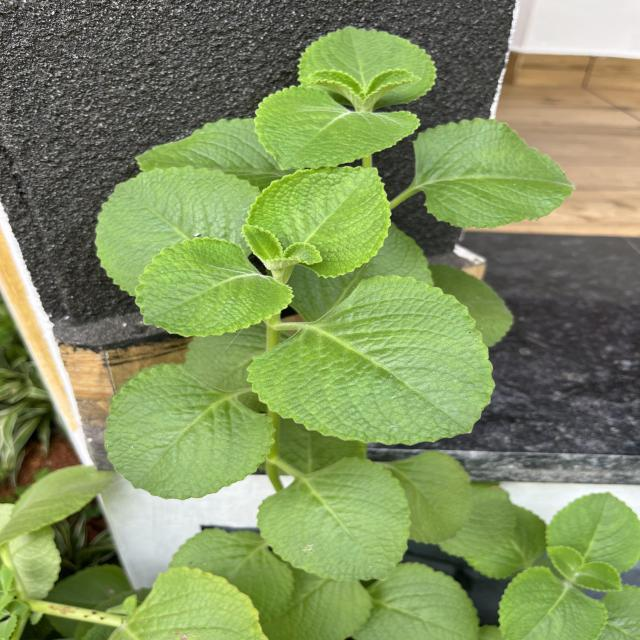Plectranthus barbatus: (248, 274, 498, 448), (102, 363, 276, 501), (94, 165, 264, 298), (256, 456, 413, 583), (410, 117, 576, 230), (245, 165, 394, 280), (132, 235, 296, 338), (252, 85, 422, 171), (298, 26, 438, 109), (352, 560, 481, 640), (383, 449, 471, 545), (497, 564, 608, 640), (544, 491, 640, 574)
